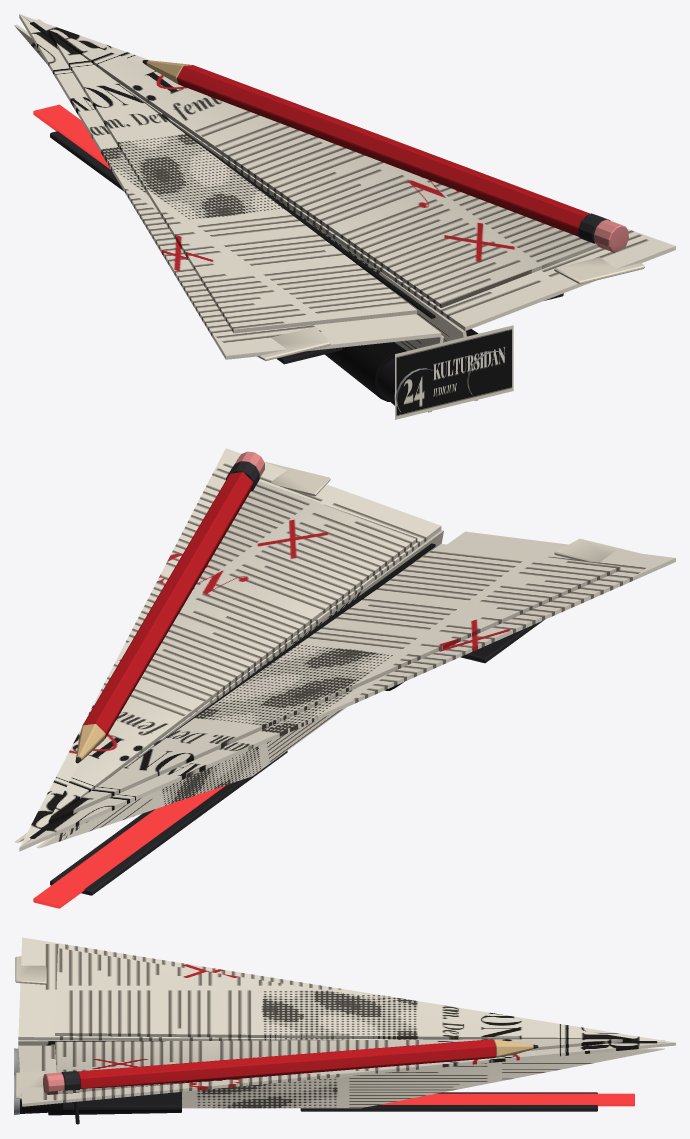
The model's file is craft_2.glb.
The picture shows the model from 3 angles, top to bottom: view 1: azimuth 30°, elevation 25°; view 2: azimuth 150°, elevation 25°; view 3: azimuth 270°, elevation 25°; orthographic projection. The views are drawn at different scales.
Parts seen in each view (by area): view 1: craft_2_sheet1, craft_2_sheet0, craft_2_pencil, craft_2_stern, craft_2_keel, craft_2_keel_flanks, flap_R_plate, flap_L_plate; view 2: craft_2_sheet1, craft_2_sheet0, craft_2_pencil, craft_2_keel, craft_2_keel_flanks, flap_R_plate, flap_L_plate; view 3: craft_2_sheet1, craft_2_sheet0, craft_2_keel_flanks, craft_2_pencil, craft_2_keel, flap_L_plate, flap_R_plate.
Boxes of the visible parts, left/top/right/bottom form: craft_2_sheet1: left=48, top=30, right=598, bottom=333; craft_2_sheet0: left=19, top=14, right=675, bottom=359; craft_2_pencil: left=142, top=60, right=628, bottom=252; craft_2_stern: left=395, top=325, right=513, bottom=419; craft_2_keel: left=30, top=22, right=563, bottom=411; craft_2_keel_flanks: left=14, top=19, right=477, bottom=412; flap_R_plate: left=554, top=257, right=644, bottom=284; flap_L_plate: left=257, top=326, right=330, bottom=361; craft_2_sheet1: left=48, top=481, right=620, bottom=824; craft_2_sheet0: left=19, top=448, right=675, bottom=851; craft_2_pencil: left=75, top=451, right=264, bottom=763; craft_2_keel: left=29, top=543, right=543, bottom=908; craft_2_keel_flanks: left=14, top=530, right=443, bottom=848; flap_R_plate: left=265, top=462, right=330, bottom=496; flap_L_plate: left=554, top=538, right=640, bottom=562; craft_2_sheet1: left=55, top=948, right=631, bottom=1094; craft_2_sheet0: left=18, top=937, right=675, bottom=1106; craft_2_keel_flanks: left=18, top=1040, right=664, bottom=1108; craft_2_pencil: left=43, top=1039, right=538, bottom=1124; craft_2_keel: left=14, top=1041, right=657, bottom=1115; flap_L_plate: left=15, top=956, right=46, bottom=984; flap_R_plate: left=15, top=1071, right=46, bottom=1099.
Size of the model in its own units: 5.3 by 1.46 by 8.91.
12 materials, 3 textured.
